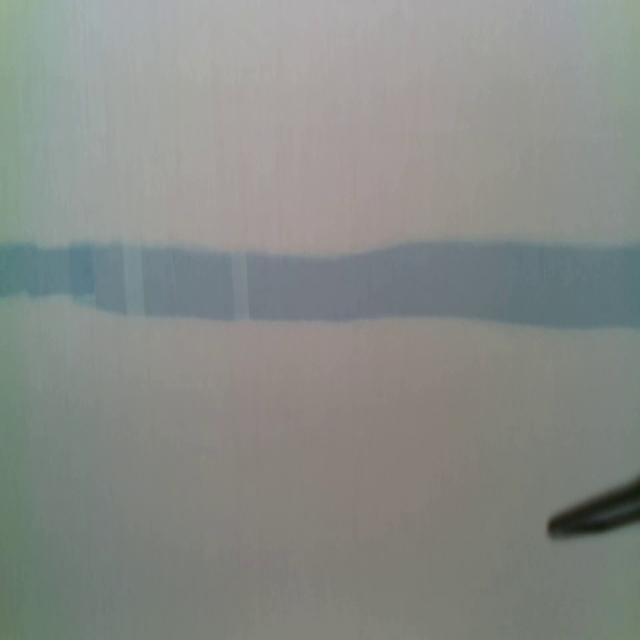color bleeding: (0, 231, 640, 339)
